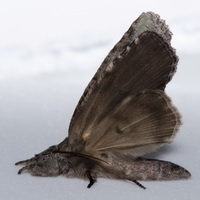insect: (15, 12, 190, 188)
